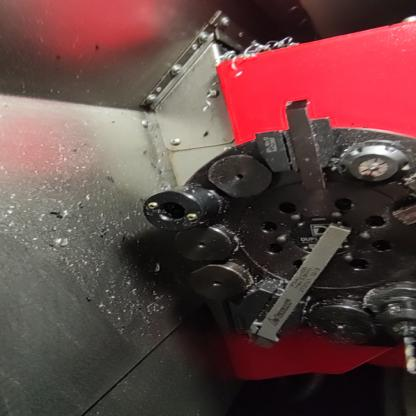bit: (232, 217, 365, 353), (247, 95, 350, 195)
